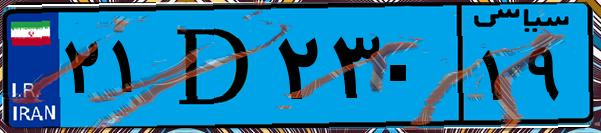0: (385, 28, 445, 110)
1: (475, 38, 525, 113), (110, 28, 158, 98)
2: (270, 28, 330, 110), (57, 26, 110, 100)
3: (330, 28, 385, 110)
9: (525, 38, 570, 115)
D: (158, 12, 270, 120)
